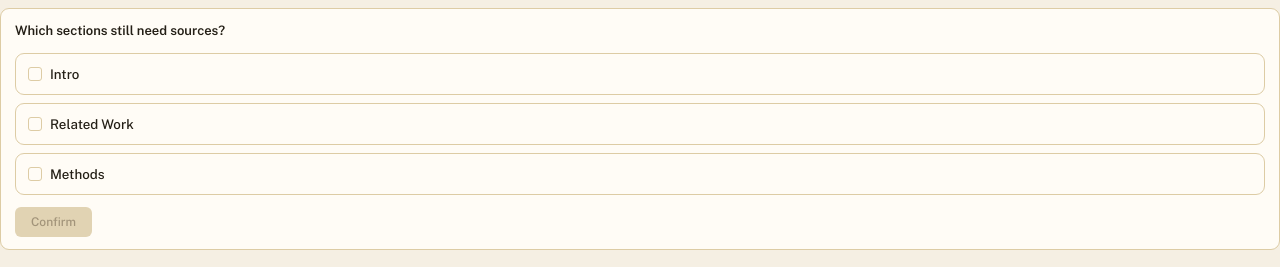
Test: OptionsPicker › multi-select › unchecking a box removes it from what Confirm would send
Click the checkbox labelled "Intro".
click(35, 74)  # box x1=15 y1=52 x2=1265 y2=94
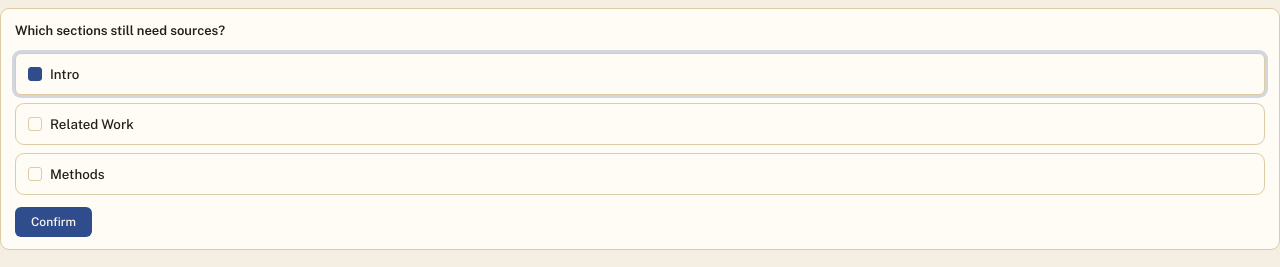
Click the checkbox labelled "Intro".
click(35, 74)  # box x1=15 y1=52 x2=1265 y2=94
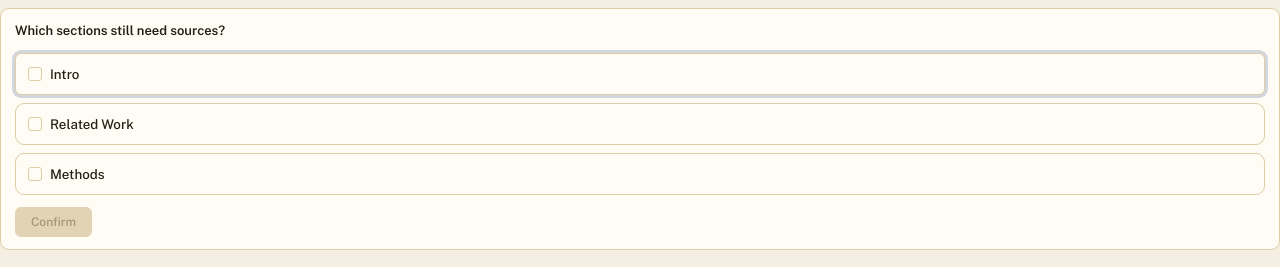
Result: the button "Confirm" is disabled at x1=15 y1=206 x2=92 y2=236
